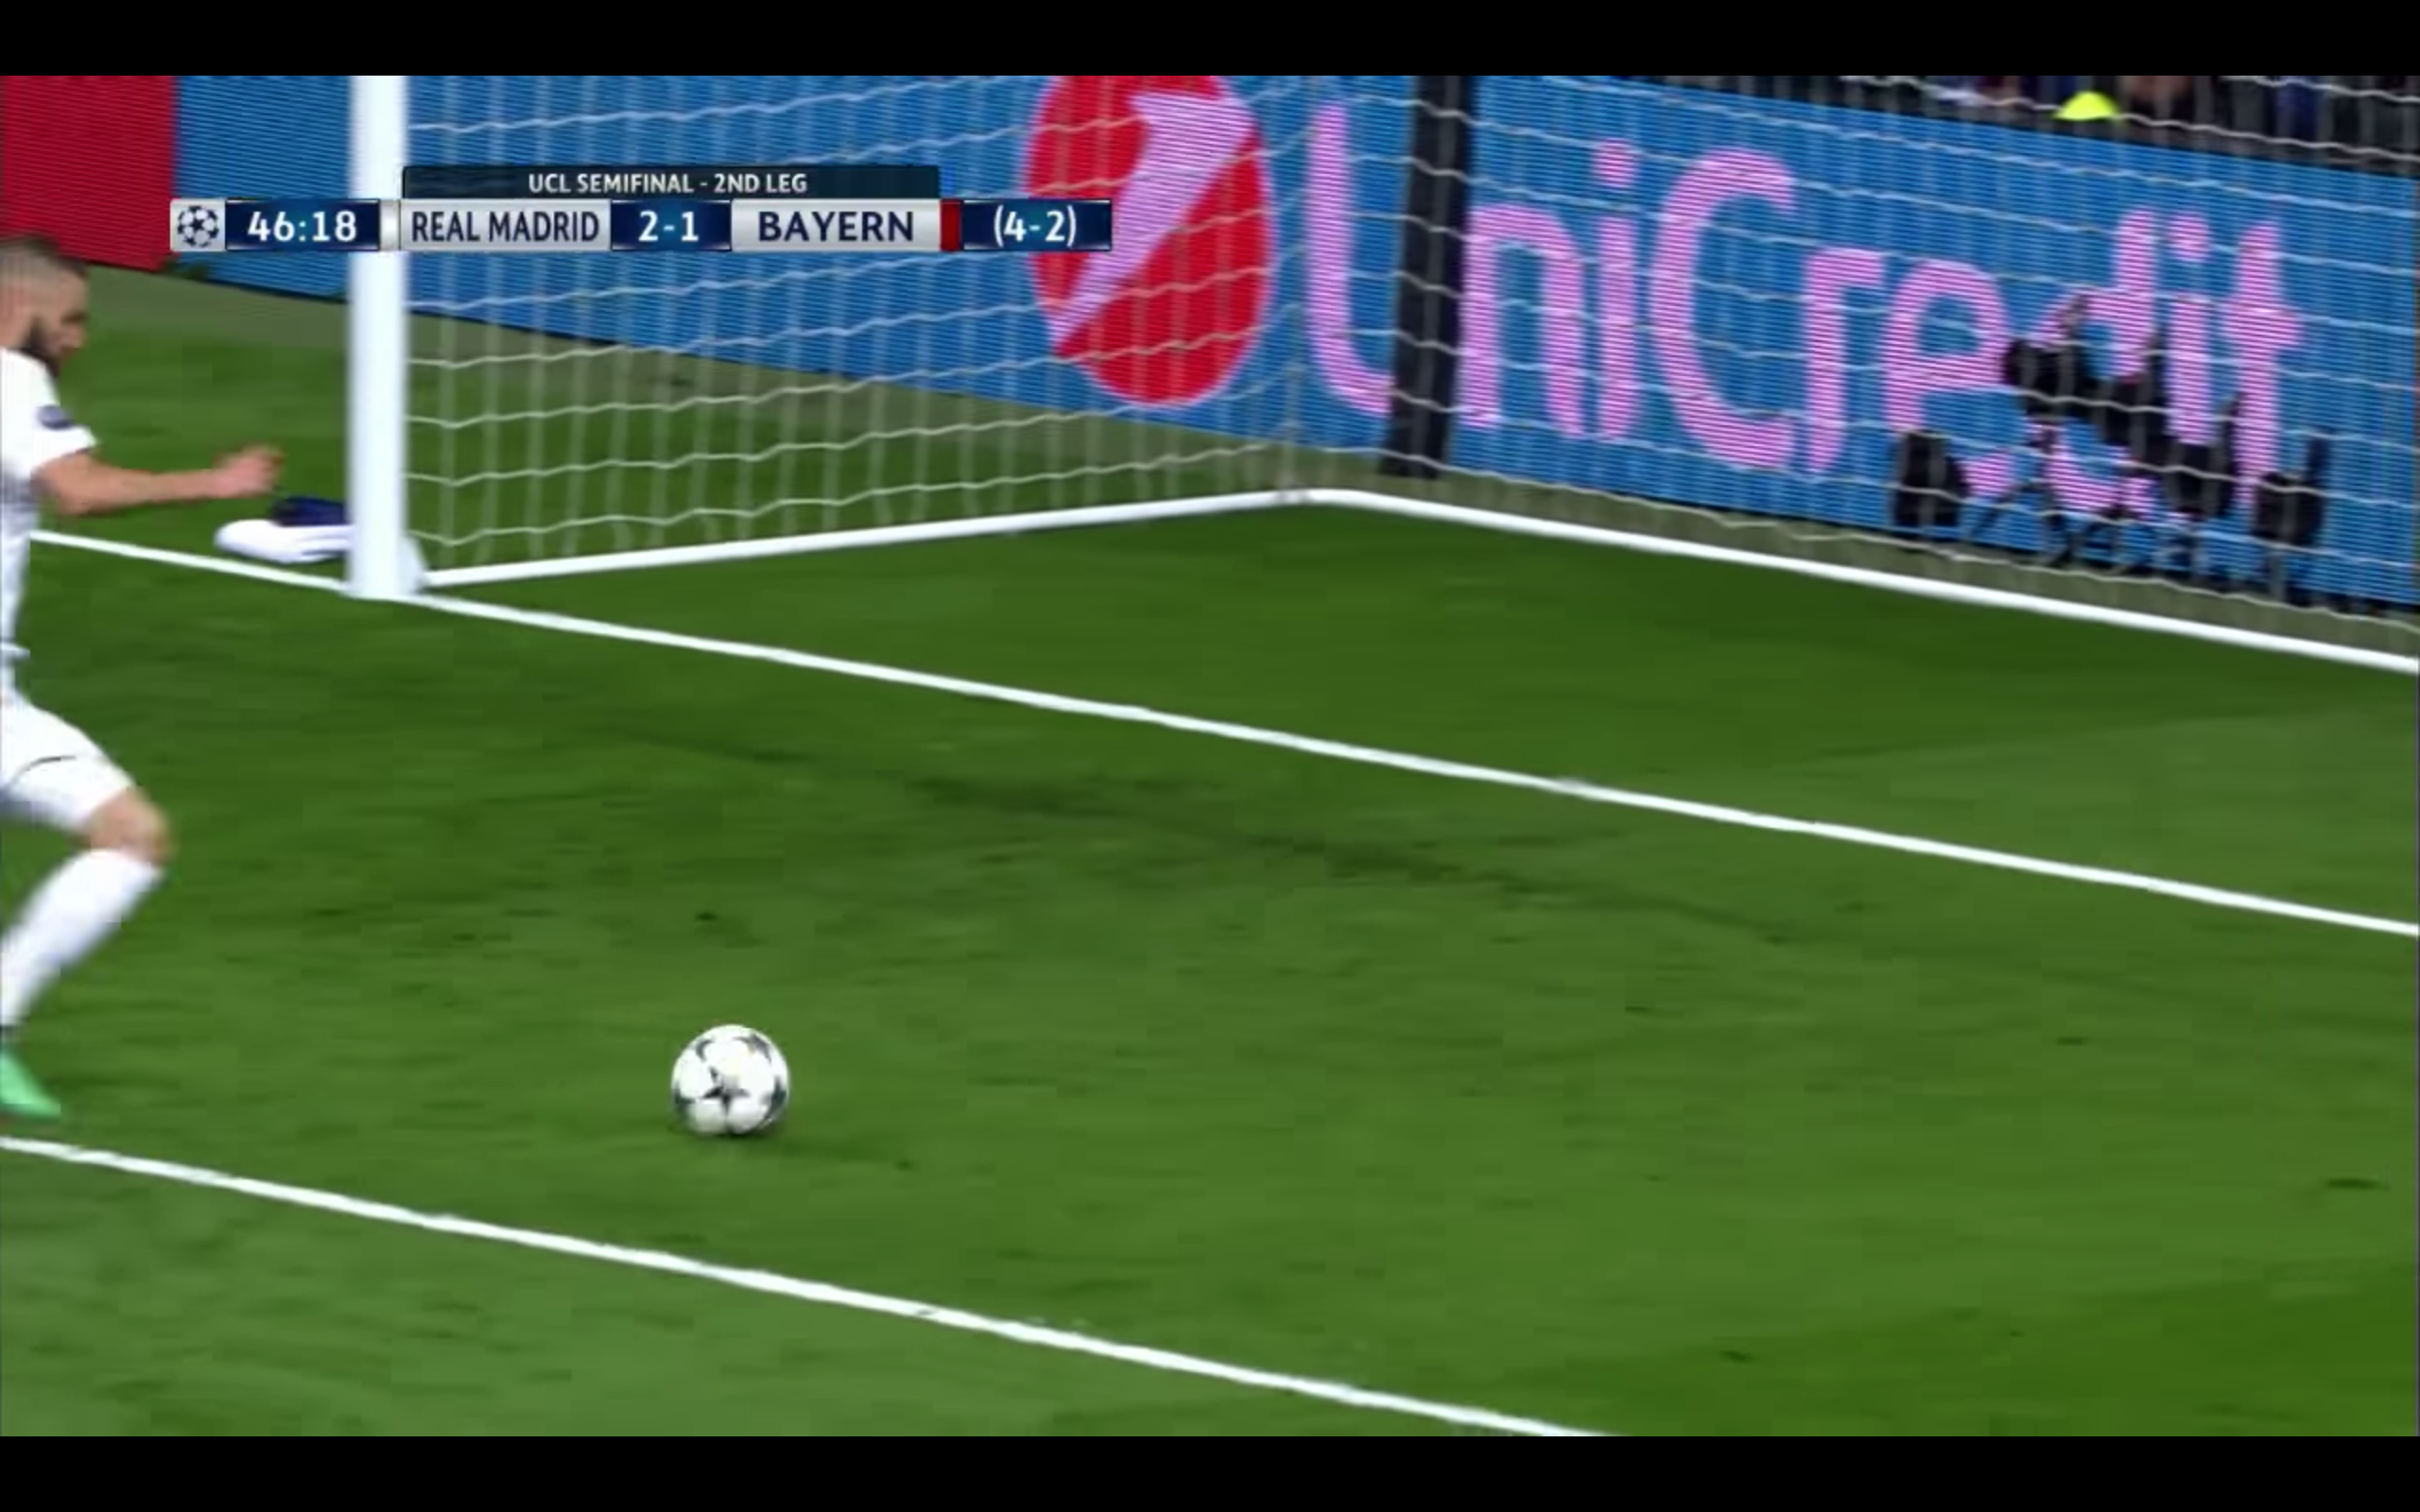soccer ball: (656, 1013, 805, 1151)
soccer player: (1, 229, 288, 1157)
